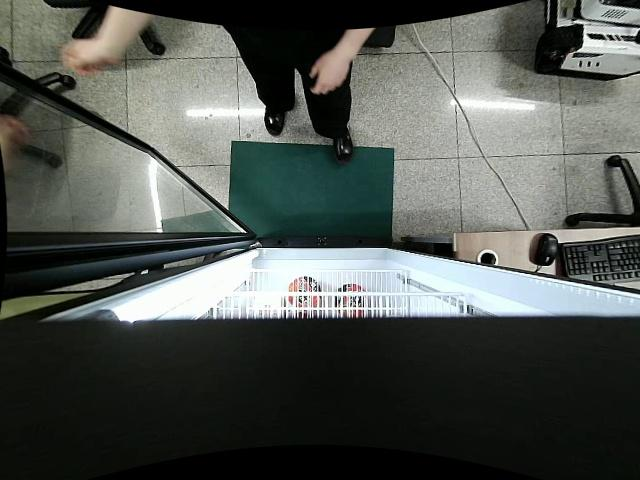00_hand: (308, 50, 352, 97)
